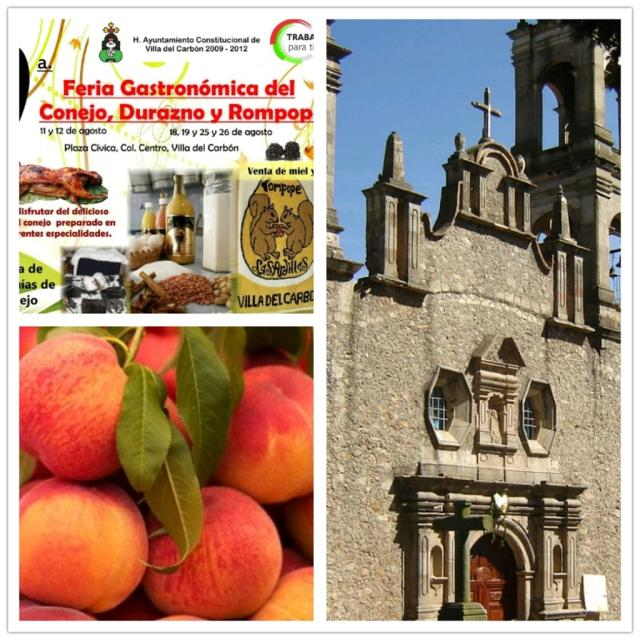Peach: (19, 328, 314, 620)
